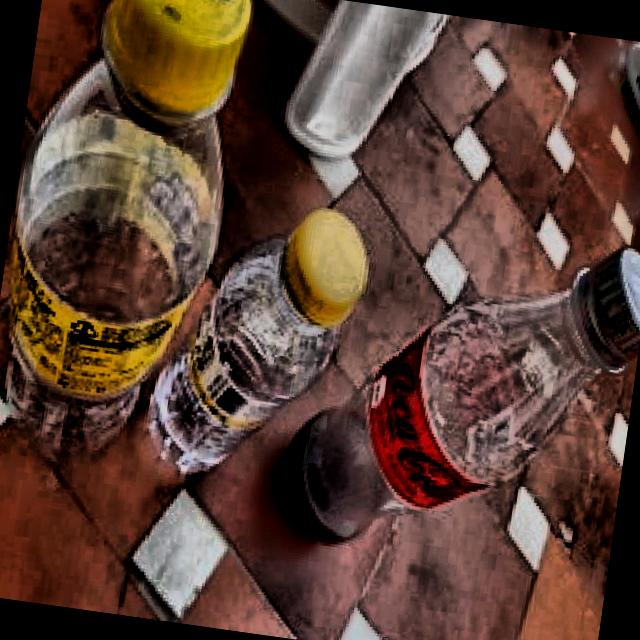plastic bottle: (281, 203, 640, 586), (5, 0, 252, 460), (149, 209, 369, 475)
